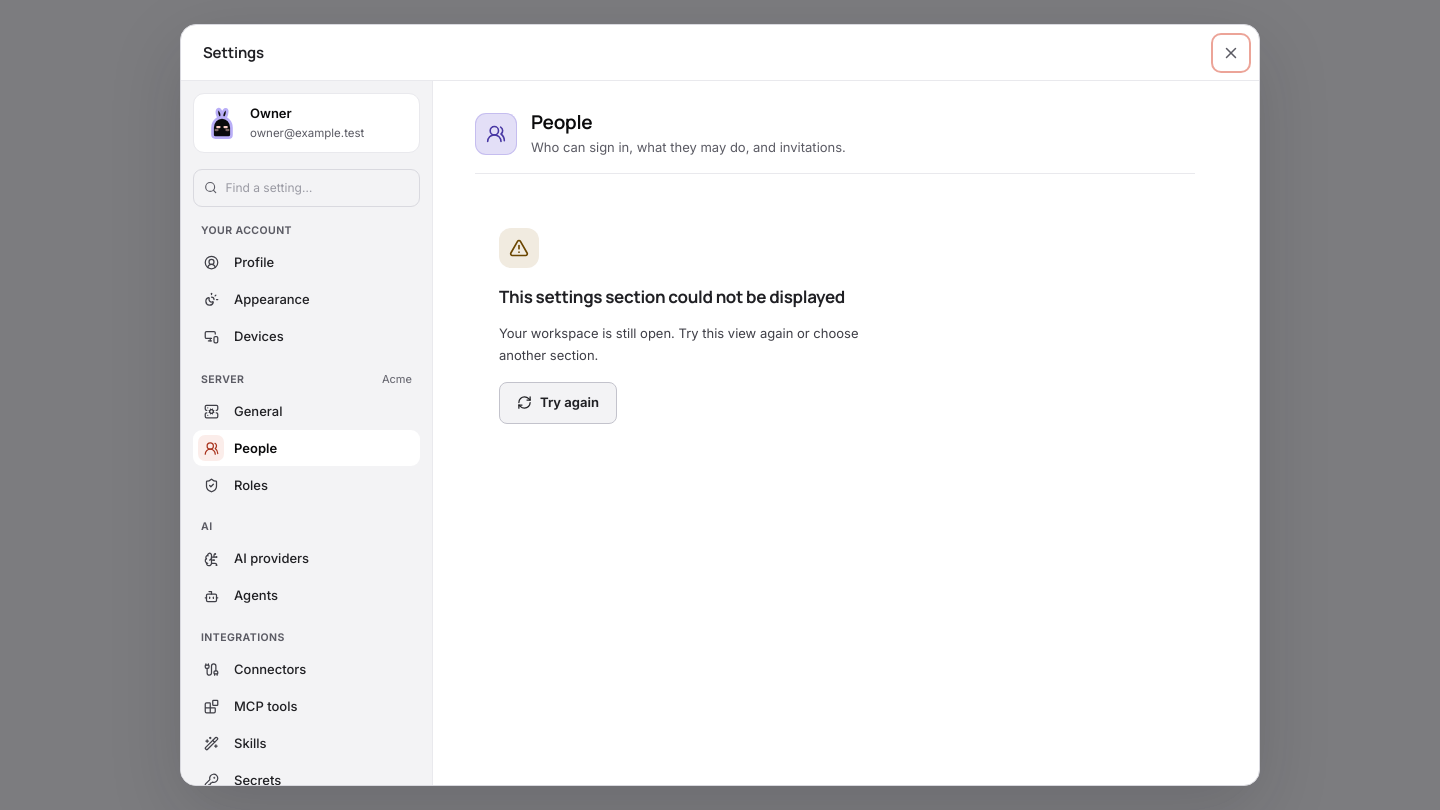
contains a malformed settings response and keeps navigation usable
Check: the heading "This settings section could not be displayed" is shown, box [499,284,845,310]
What coordinates should you click on to do the following:
click the button "Appearance"
I would click on:
 (306, 300)
Its box is [193,282,420,318].
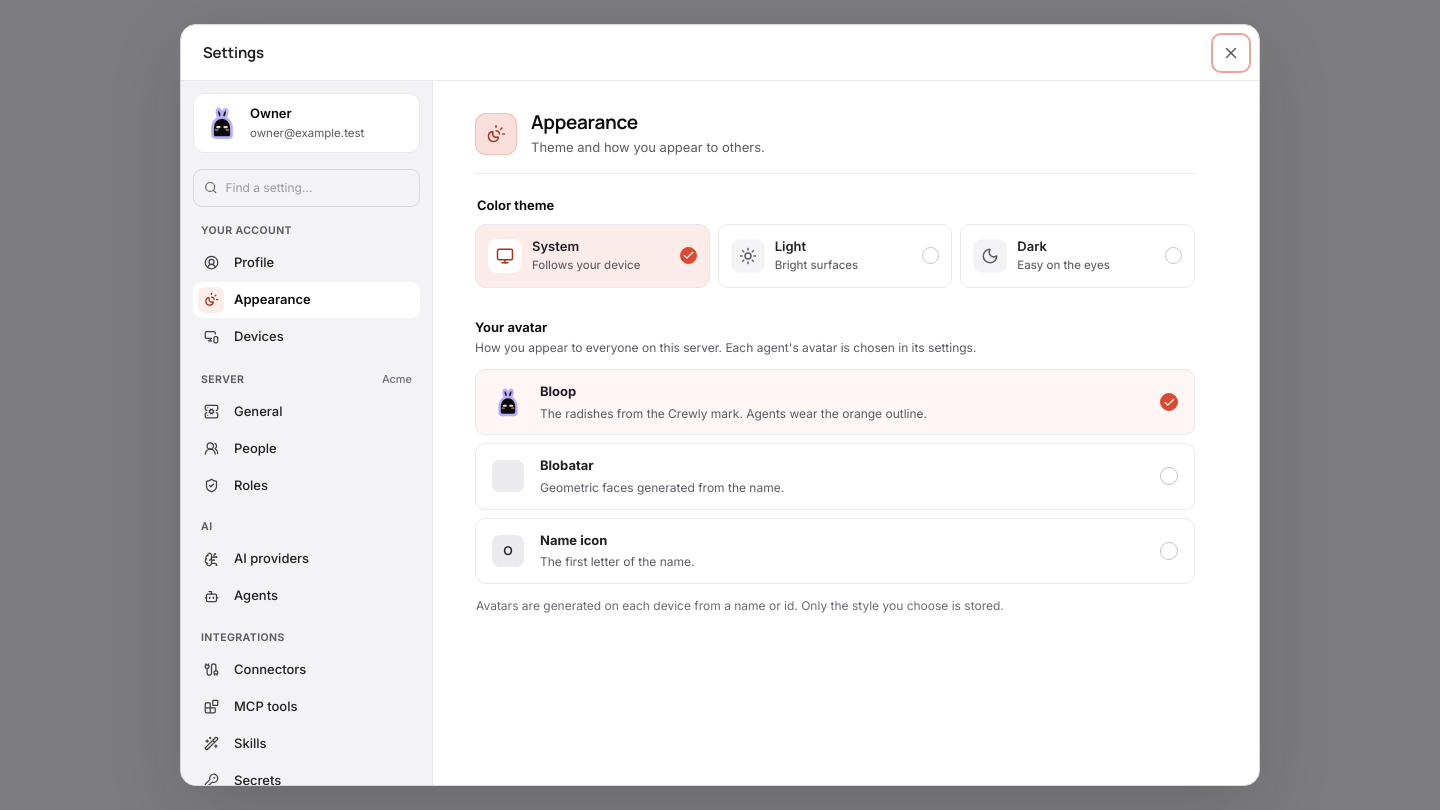
Check: the text "Color theme" is shown, box [475,196,556,216]
Check: the heading "This settings section could not be displayed" is gone
